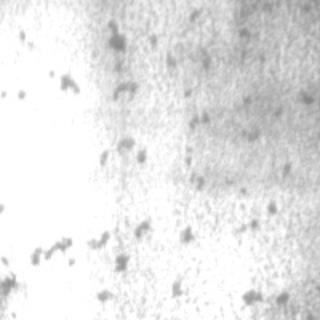pitted_surface: (6, 78, 248, 306), (148, 7, 308, 304)
